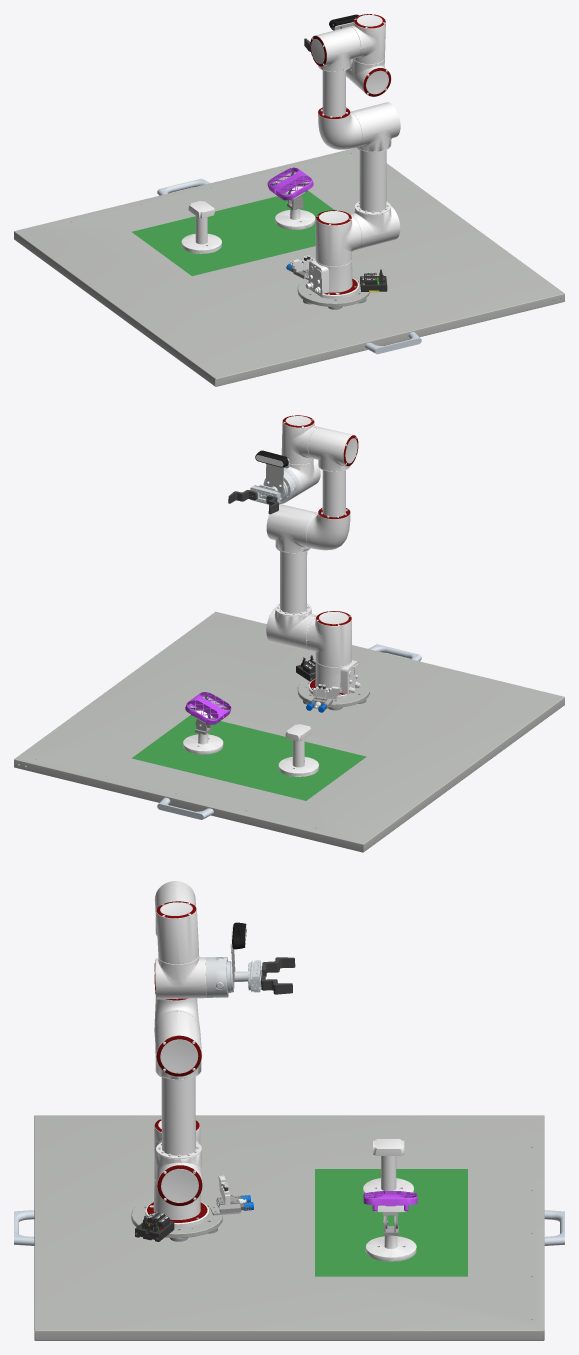
File: ArmMeshFixed.glb
The picture shows the model from 3 angles, top to bottom: view 1: azimuth 30°, elevation 25°; view 2: azimuth 150°, elevation 25°; view 3: azimuth 270°, elevation 25°; orthographic projection. The views are drawn at different scales.
Parts seen in each view (by area): view 1: DUT-A01-001桌面（1mx1m）, RD20.1-MTFR3-V6.0-3^FR3MT-V6.0 Model_XPZN-DUT-A04协作机器人组件, RD20.1-MTFR3-V6.0-4^FR3MT-V6.0 Model_XPZN-DUT-A04协作机器人组件, RD20.1-MTFR3-V6.0-2^FR3MT-V6.0 Model_XPZN-DUT-A04协作机器人组件, RD20.1-MTFR3-V6.0-1^FR3MT-V6.0 Model_XPZN-DUT-A04协作机器人组件, RD20.1-MTFR3-V6.0-5^FR3MT-V6.0 Model_XPZN-DUT-A04协作机器人组件, 无人机支撑柱, RD20.1-MTFR3-V6.0-5^FR3MT-V6.0 Model_XPZN-DUT-A04协作机器人组件.001, 1-1209zmv3c1_四轴飞行器主体, DUT-A04-001 FR3C安装板, 支撑柱底部支架, T088 (+1 smaller); view 2: DUT-A01-001桌面（1mx1m）, RD20.1-MTFR3-V6.0-3^FR3MT-V6.0 Model_XPZN-DUT-A04协作机器人组件, RD20.1-MTFR3-V6.0-4^FR3MT-V6.0 Model_XPZN-DUT-A04协作机器人组件, RD20.1-MTFR3-V6.0-2^FR3MT-V6.0 Model_XPZN-DUT-A04协作机器人组件, RD20.1-MTFR3-V6.0-5^FR3MT-V6.0 Model_XPZN-DUT-A04协作机器人组件, RD20.1-MTFR3-V6.0-1^FR3MT-V6.0 Model_XPZN-DUT-A04协作机器人组件, 无人机支撑柱, 1-1209zmv3c1_四轴飞行器主体, DUT-A04-001 FR3C安装板, 支撑柱底部支架, RD20.1-MTFR3-V6.0-5^FR3MT-V6.0 Model_XPZN-DUT-A04协作机器人组件.001; view 3: DUT-A01-001桌面（1mx1m）, RD20.1-MTFR3-V6.0-3^FR3MT-V6.0 Model_XPZN-DUT-A04协作机器人组件, RD20.1-MTFR3-V6.0-5^FR3MT-V6.0 Model_XPZN-DUT-A04协作机器人组件, RD20.1-MTFR3-V6.0-5^FR3MT-V6.0 Model_XPZN-DUT-A04协作机器人组件.001, RD20.1-MTFR3-V6.0-4^FR3MT-V6.0 Model_XPZN-DUT-A04协作机器人组件, 无人机支撑柱, RD20.1-MTFR3-V6.0-1^FR3MT-V6.0 Model_XPZN-DUT-A04协作机器人组件, 支撑柱底部支架, DUT-A04-001 FR3C安装板, RD20.1-MTFR3-V6.0-7^FR3MT-V6.0 Model_XPZN-DUT-A04协作机器人组件, T088, 1-1209zmv3c1_四轴飞行器主体.
Boxes of the visible parts, box(x1,y1,x2,y2) form: DUT-A01-001桌面（1mx1m）: box(14, 147, 564, 386); RD20.1-MTFR3-V6.0-3^FR3MT-V6.0 Model_XPZN-DUT-A04协作机器人组件: box(350, 102, 400, 249); RD20.1-MTFR3-V6.0-4^FR3MT-V6.0 Model_XPZN-DUT-A04协作机器人组件: box(310, 26, 362, 149); RD20.1-MTFR3-V6.0-2^FR3MT-V6.0 Model_XPZN-DUT-A04协作机器人组件: box(315, 210, 361, 266); RD20.1-MTFR3-V6.0-1^FR3MT-V6.0 Model_XPZN-DUT-A04协作机器人组件: box(305, 259, 359, 298); RD20.1-MTFR3-V6.0-5^FR3MT-V6.0 Model_XPZN-DUT-A04协作机器人组件: box(350, 14, 385, 64); 无人机支撑柱: box(181, 201, 221, 253); RD20.1-MTFR3-V6.0-5^FR3MT-V6.0 Model_XPZN-DUT-A04协作机器人组件.001: box(346, 58, 391, 96); 1-1209zmv3c1_四轴飞行器主体: box(267, 167, 313, 200); DUT-A04-001 FR3C安装板: box(297, 275, 369, 306); 支撑柱底部支架: box(275, 208, 315, 229); T088: box(360, 269, 387, 292); DUT-A01-001桌面（1mx1m）: box(14, 611, 564, 852); RD20.1-MTFR3-V6.0-3^FR3MT-V6.0 Model_XPZN-DUT-A04协作机器人组件: box(266, 504, 317, 650); RD20.1-MTFR3-V6.0-4^FR3MT-V6.0 Model_XPZN-DUT-A04协作机器人组件: box(306, 427, 358, 550); RD20.1-MTFR3-V6.0-2^FR3MT-V6.0 Model_XPZN-DUT-A04协作机器人组件: box(306, 611, 351, 666); RD20.1-MTFR3-V6.0-5^FR3MT-V6.0 Model_XPZN-DUT-A04协作机器人组件: box(281, 415, 318, 464); RD20.1-MTFR3-V6.0-1^FR3MT-V6.0 Model_XPZN-DUT-A04协作机器人组件: box(308, 660, 361, 699); 无人机支撑柱: box(278, 724, 318, 776); 1-1209zmv3c1_四轴飞行器主体: box(185, 692, 231, 724); DUT-A04-001 FR3C安装板: box(297, 678, 369, 707); 支撑柱底部支架: box(183, 733, 223, 754); RD20.1-MTFR3-V6.0-5^FR3MT-V6.0 Model_XPZN-DUT-A04协作机器人组件.001: box(284, 459, 320, 496); DUT-A01-001桌面（1mx1m）: box(34, 1115, 544, 1340); RD20.1-MTFR3-V6.0-3^FR3MT-V6.0 Model_XPZN-DUT-A04协作机器人组件: box(154, 1011, 202, 1205); RD20.1-MTFR3-V6.0-5^FR3MT-V6.0 Model_XPZN-DUT-A04协作机器人组件: box(156, 901, 198, 964); RD20.1-MTFR3-V6.0-5^FR3MT-V6.0 Model_XPZN-DUT-A04协作机器人组件.001: box(154, 955, 207, 999); RD20.1-MTFR3-V6.0-4^FR3MT-V6.0 Model_XPZN-DUT-A04协作机器人组件: box(154, 881, 199, 1031); 无人机支撑柱: box(363, 1139, 413, 1194); RD20.1-MTFR3-V6.0-1^FR3MT-V6.0 Model_XPZN-DUT-A04协作机器人组件: box(145, 1178, 209, 1227); 支撑柱底部支架: box(365, 1235, 416, 1261); DUT-A04-001 FR3C安装板: box(131, 1198, 222, 1238); RD20.1-MTFR3-V6.0-7^FR3MT-V6.0 Model_XPZN-DUT-A04协作机器人组件: box(206, 956, 231, 997); T088: box(135, 1211, 174, 1241); 1-1209zmv3c1_四轴飞行器主体: box(363, 1191, 417, 1211).
Bounding box in the file's own units: 1 × 0.7503 × 1.08.
